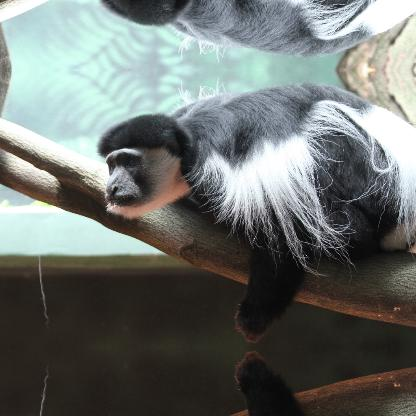Monkey: (80, 90, 395, 332), (80, 360, 396, 415), (80, 0, 396, 49)
